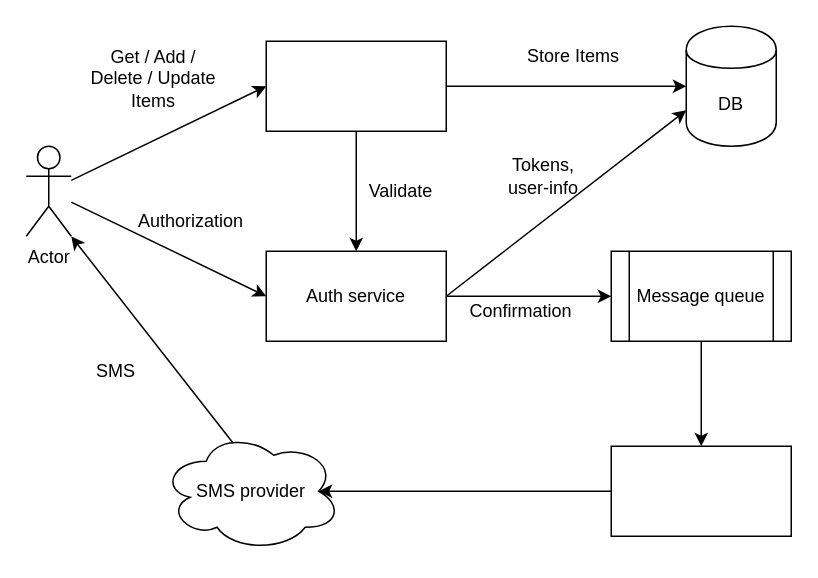
The diagram is 818 pixels wide and 578 high, and some of its shapes have lost their labels. Each missing label, with the centre of its shape:
Item-storage service: the point at 355,85
Notify service: the point at 700,490
